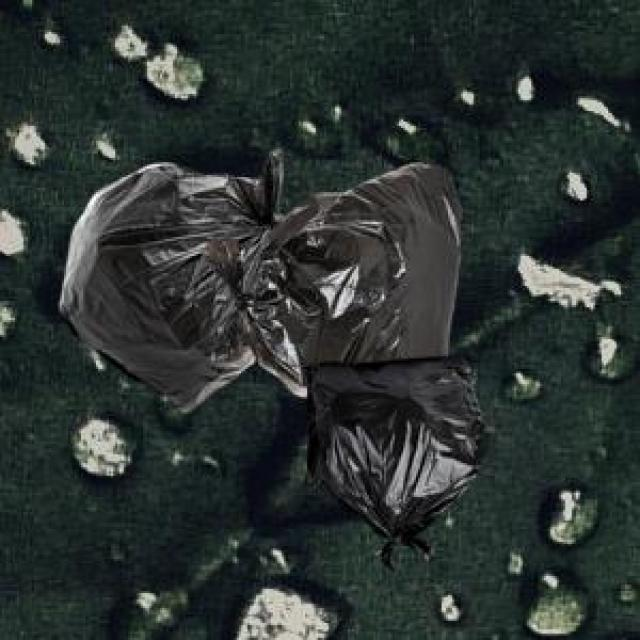waste: (59, 161, 481, 561)
